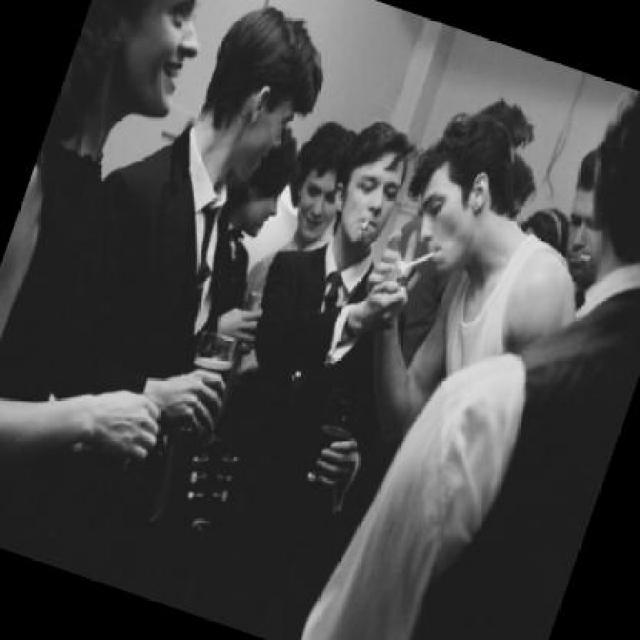cigarette: (400, 242, 437, 281), (359, 218, 370, 232)
